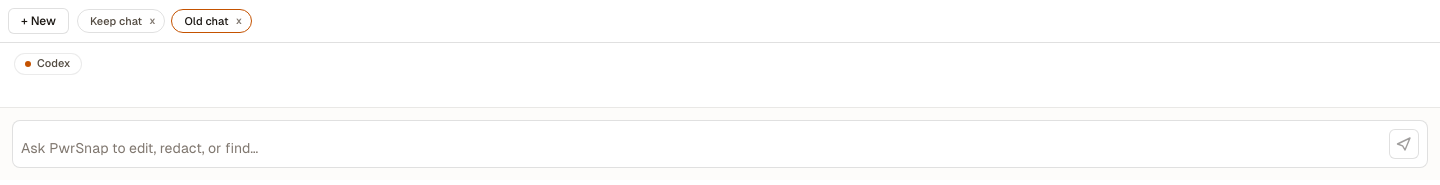
Test: LibraryChatPanel › archives a thread when its close chip is clicked
Click the 2nd button "x": (239, 21) x1=236 y1=10 x2=242 y2=32
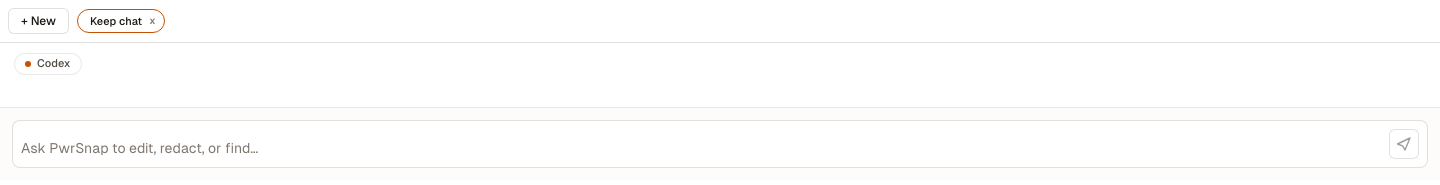
Check: the text "Keep chat" is shown, box x1=90 y1=16 x2=142 y2=26
Check: the text "Old chat" is gone
